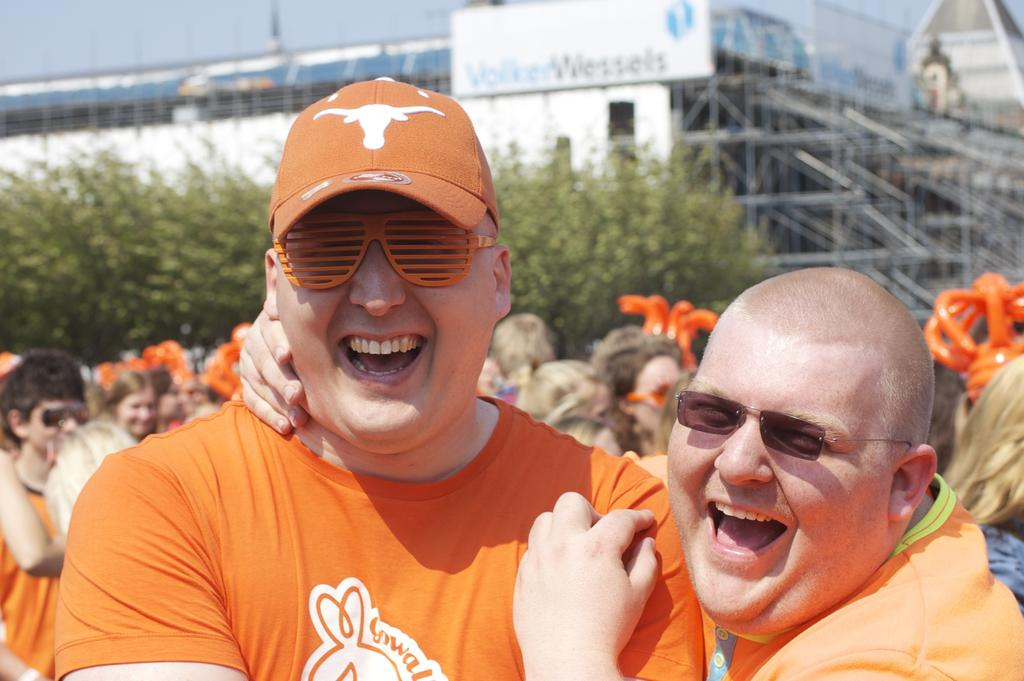Hat: (266, 74, 498, 242)
